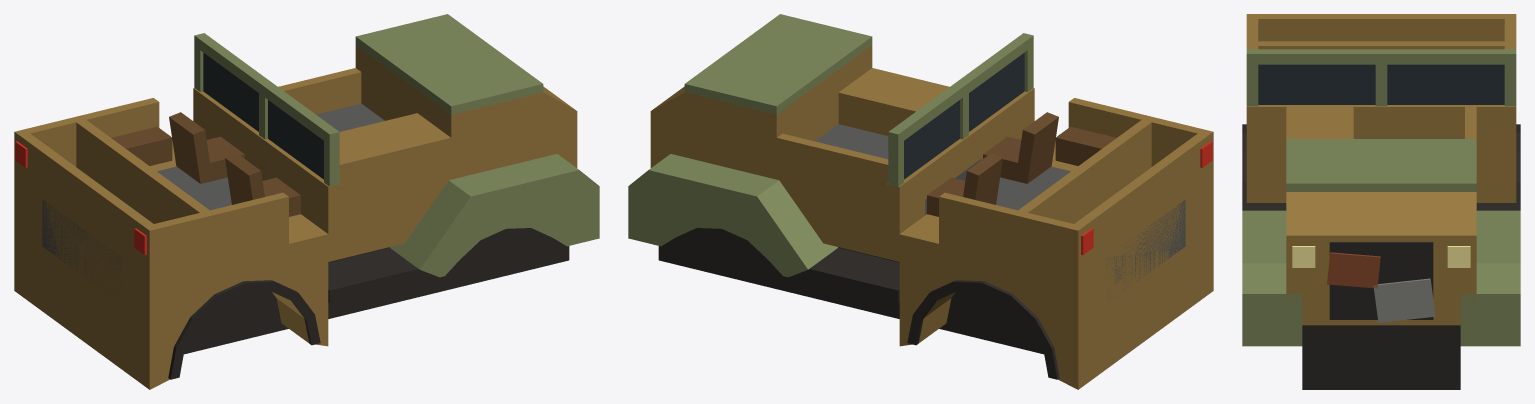
Rendered from base_wagon.glb.
3 views of the same model, side by side, from view 1: azimuth 30°, elevation 25°; view 2: azimuth 150°, elevation 25°; view 3: azimuth 270°, elevation 25° (orthographic).
Parts seen in each view (by area): view 1: base_wagon; view 2: base_wagon; view 3: base_wagon.
Boxes of the visible parts, bbox=[...] form: base_wagon: bbox=[14, 14, 599, 389]; base_wagon: bbox=[628, 14, 1213, 389]; base_wagon: bbox=[1242, 14, 1520, 389].
Size of the model in its own units: 4.53 by 2.02 by 2.42.
